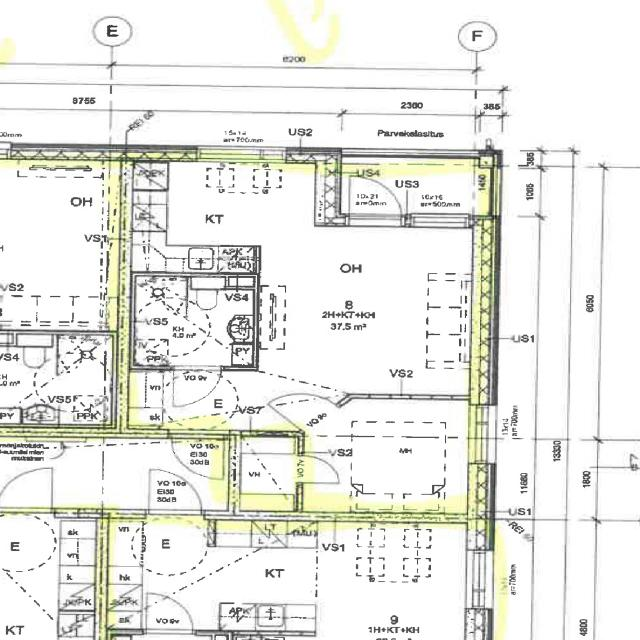door: (268, 379, 339, 434), (348, 174, 401, 227), (171, 429, 223, 477), (173, 366, 221, 407), (298, 455, 339, 483)
